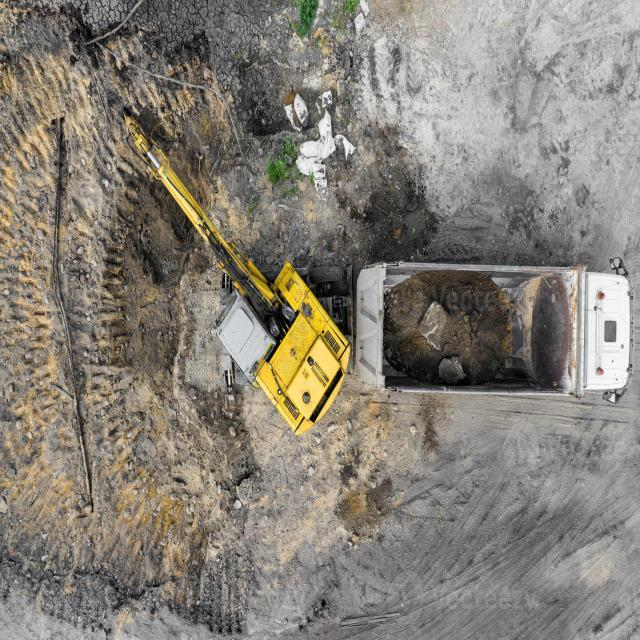excavator: (125, 114, 352, 437)
